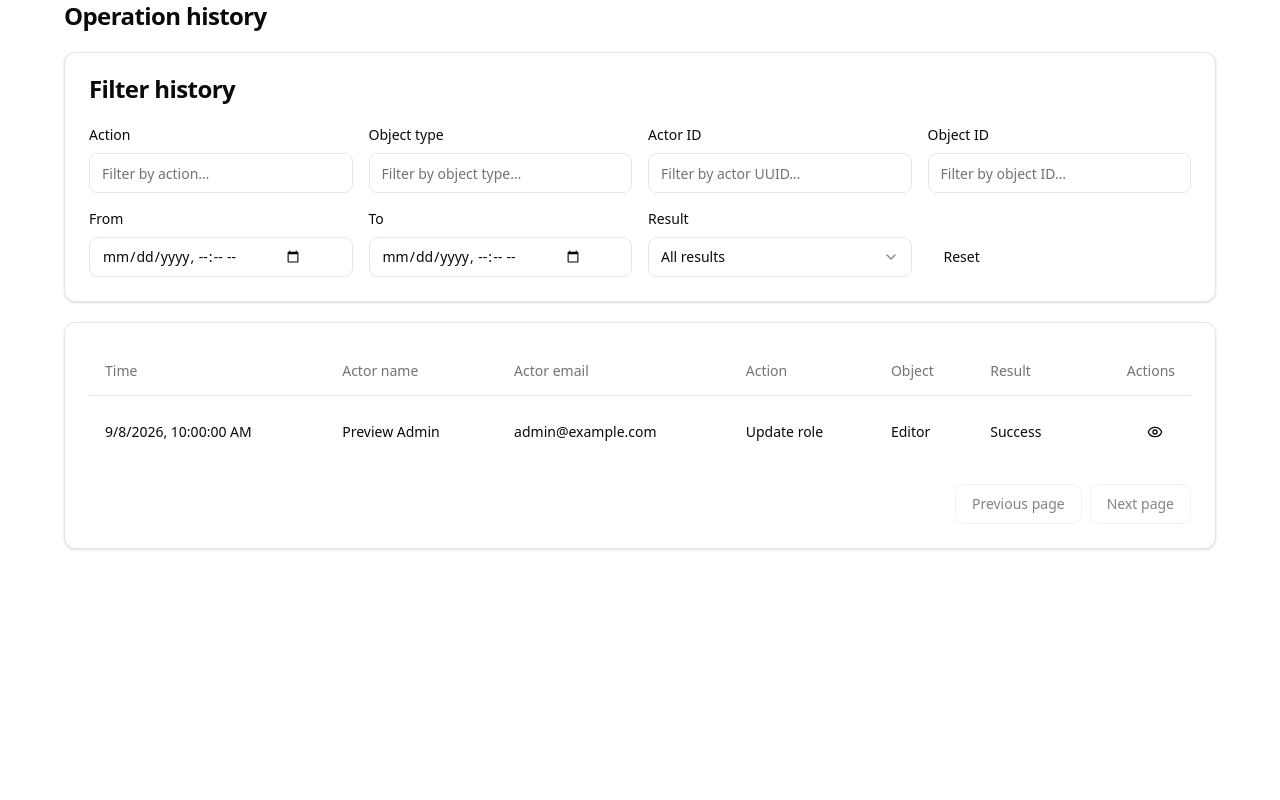
Scenario: readable operation details › shows changed fields side by side without unchanged revision noise
The width and height of the screenshot is (1280, 800).
Step 1. Click the button named "View operation details" → (1155, 432), box 1135,412 -> 1175,452
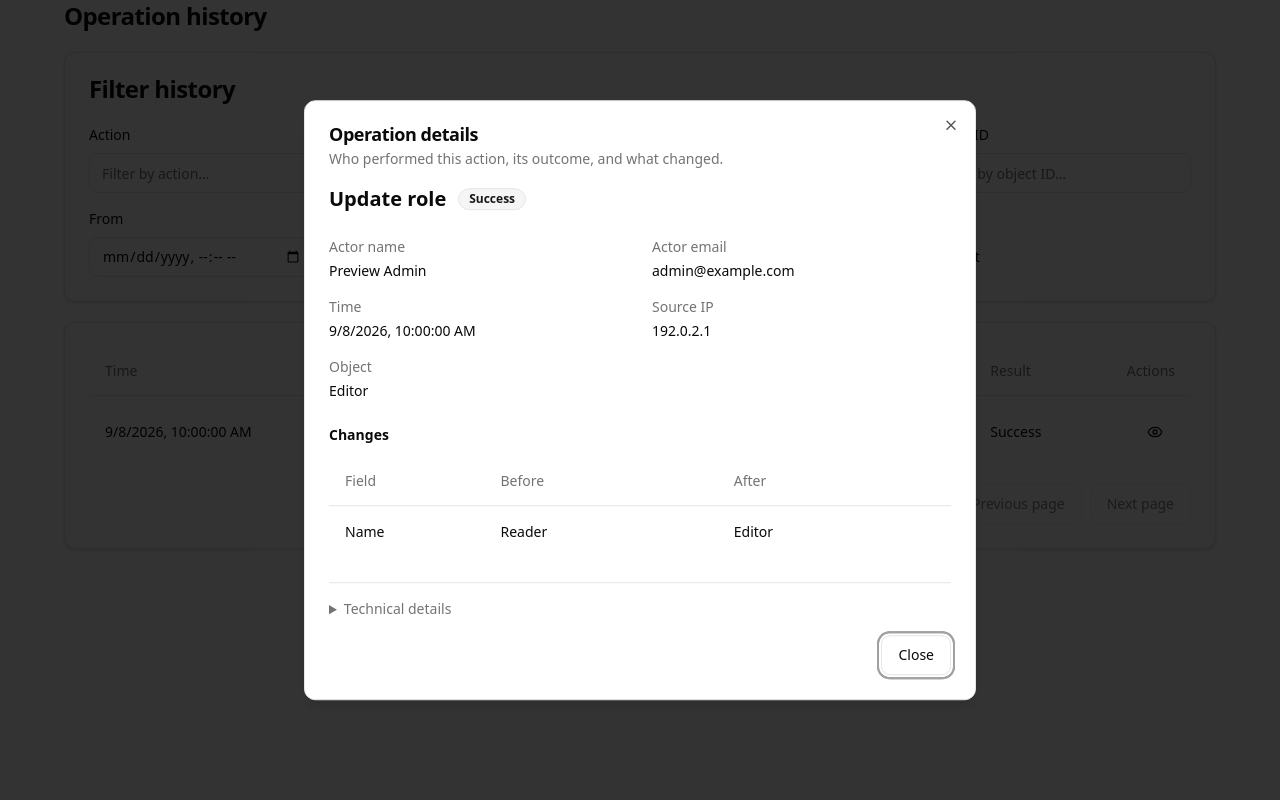
Expected: the column heading "Before" is shown, 484,457 -> 718,505
Expected: the column heading "After" is shown, 718,457 -> 951,505
Expected: the text "Reader" is shown, 500,522 -> 547,541
